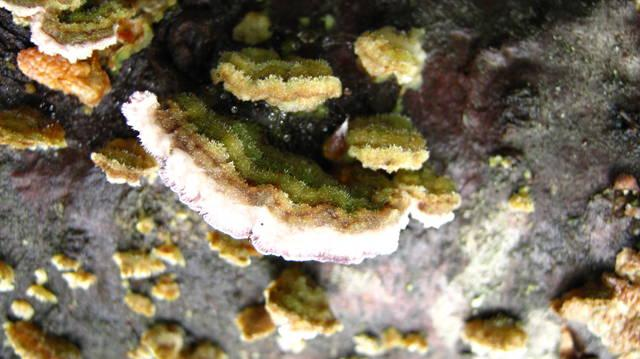Non-edible Mushroom: (119, 86, 461, 265)
